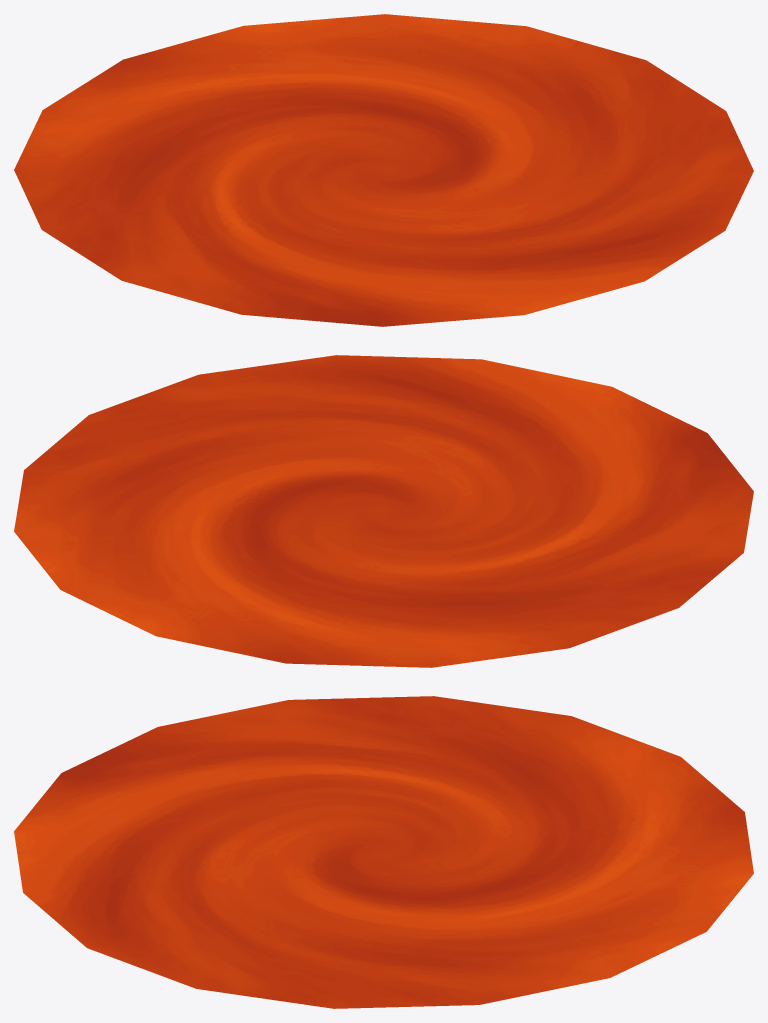
The model's file is Lava.fbx.
3 views of the same model, one above another, from view 1: azimuth 30°, elevation 25°; view 2: azimuth 150°, elevation 25°; view 3: azimuth 270°, elevation 25° (orthographic).
Visible parts, largest first — view 1: pCylinder2; view 2: pCylinder2; view 3: pCylinder2.
Boxes of the visible parts, x1,y1,x2,y2 form: pCylinder2: (14,14,753,326); pCylinder2: (14,355,753,667); pCylinder2: (14,696,753,1008).
Bounding box in the file's own units: 2218 × 0 × 2218.
